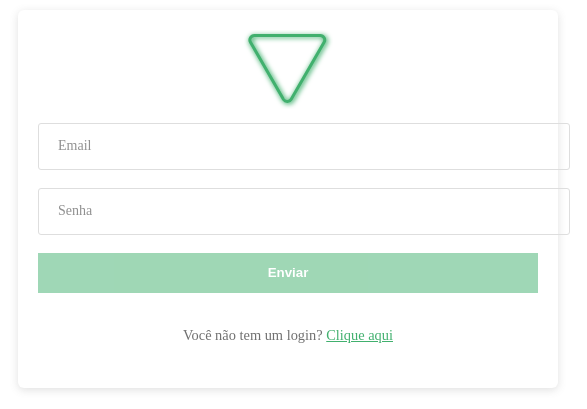
Scenario: LoginScreen › Exibe uma mensagem de erro quando as credenciais são inválidas
The image size is (587, 409).
Type "fail@example.com" into the field labelled "Email" at [304, 146], box [38,123,570,170]
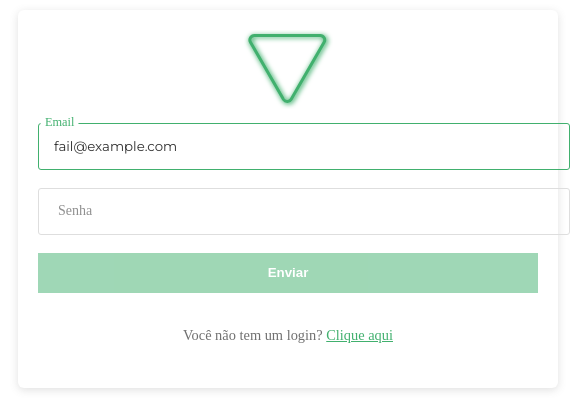
Type "wrongpass" into the password field labelled "Senha" at [304, 211], box [38,188,570,235]
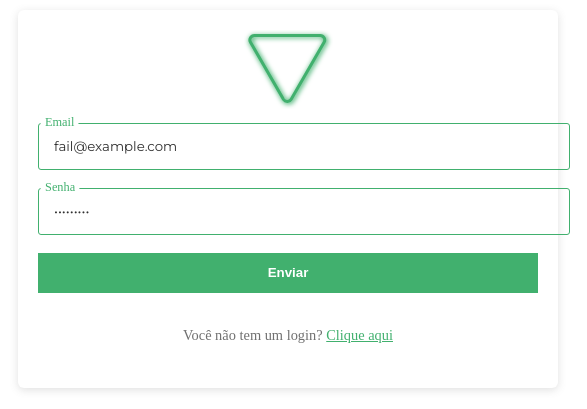
Click the button "Enviar" at [288, 273], box [38,253,538,293]
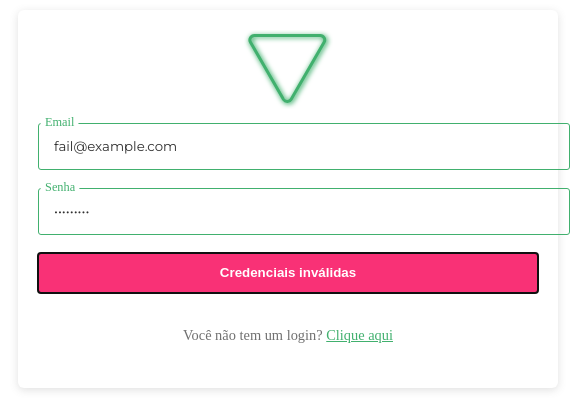
Now the button "Credenciais inválidas" is shown, box [38,253,538,293]
